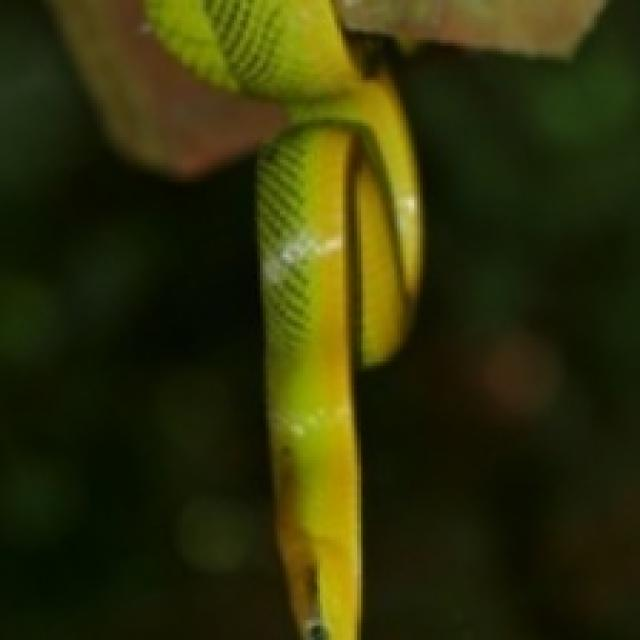red-tailed green ratsnake: (143, 0, 420, 637)
